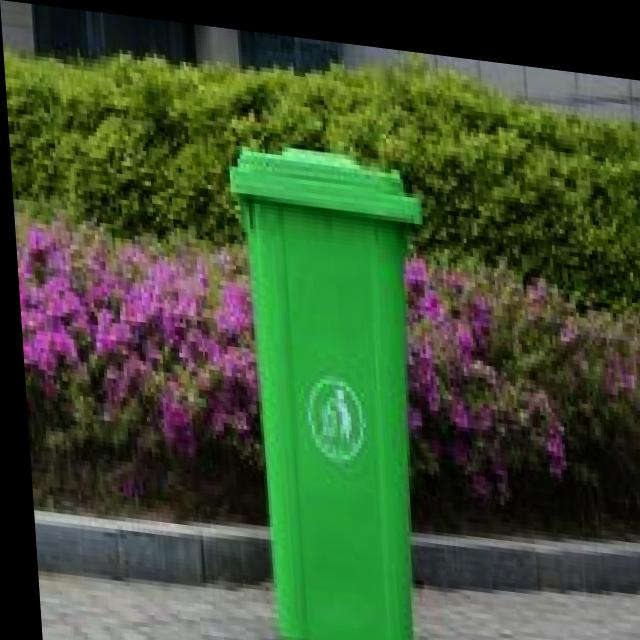garbage_bin: (220, 125, 438, 640)
